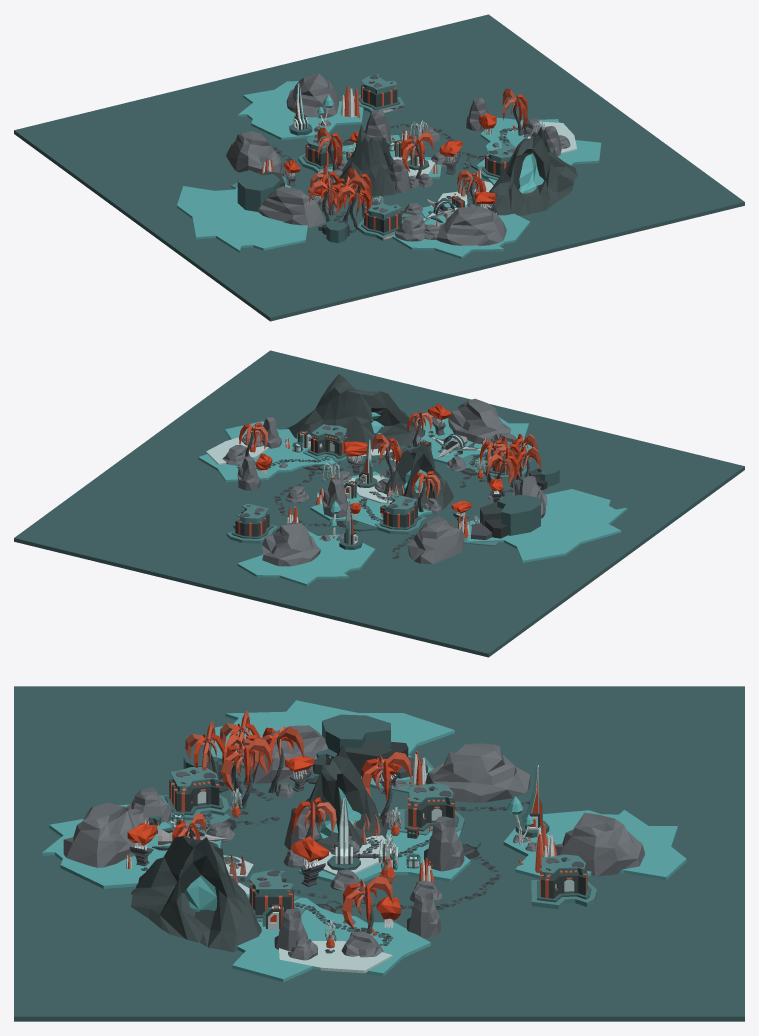
Rendered from Tropical_Paradise.fbx.
The picture shows the model from 3 angles, top to bottom: view 1: azimuth 30°, elevation 25°; view 2: azimuth 150°, elevation 25°; view 3: azimuth 270°, elevation 25°; orthographic projection. The views are drawn at different scales.
Parts seen in each view (by area): view 1: Ground_1, Cylinder_3_4, Sphere, Cylinder_5_2, Cylinder_6_3, Sphere_1, Cylinder_1_3, Cylinder_16_2, Cylinder_2_4, Cylinder_19_2, Cylinder_17_2, Cylinder_7 (+15 smaller); view 2: Ground_1, Cylinder_3_4, Sphere, Cylinder_5_2, Cylinder_7, Sphere_1, Cylinder_2_4, Cylinder_17_2, Cylinder_19_2, Cylinder_6_3, Cube_2, Cube_6 (+15 smaller); view 3: Ground_1, Sphere, Cylinder_2_4, Cylinder_19_2, Cylinder_5_2, Cylinder_3_4, Sphere_1, Cylinder_17_2, Cylinder_6_3, Cylinder_7, Cylinder_1_3, Cube_6 (+29 smaller).
Part boxes in pixels (<box>): Ground_1: <box>14,14,744,321</box>; Cylinder_3_4: <box>177,185,307,252</box>; Sphere: <box>488,126,577,215</box>; Cylinder_5_2: <box>238,81,363,139</box>; Cylinder_6_3: <box>437,206,506,245</box>; Sphere_1: <box>333,124,397,196</box>; Cylinder_1_3: <box>392,201,530,258</box>; Cylinder_16_2: <box>257,186,325,227</box>; Cylinder_2_4: <box>476,117,601,185</box>; Cylinder_19_2: <box>226,131,282,174</box>; Cylinder_17_2: <box>286,73,339,118</box>; Cylinder_7: <box>237,170,284,211</box>; Ground_1: <box>14,350,744,657</box>; Cylinder_3_4: <box>467,489,627,562</box>; Sphere: <box>286,374,425,449</box>; Cylinder_5_2: <box>237,531,375,586</box>; Cylinder_7: <box>471,495,540,539</box>; Sphere_1: <box>384,441,453,509</box>; Cylinder_2_4: <box>198,421,336,482</box>; Cylinder_17_2: <box>262,522,320,566</box>; Cylinder_19_2: <box>407,516,464,563</box>; Cylinder_6_3: <box>448,398,510,443</box>; Cube_2: <box>375,494,426,534</box>; Cube_6: <box>226,503,278,543</box>; Ground_1: <box>14,686,744,1021</box>; Sphere: <box>130,836,261,952</box>; Cylinder_2_4: <box>232,894,430,982</box>; Cylinder_19_2: <box>425,743,530,802</box>; Cylinder_5_2: <box>503,810,686,880</box>; Cylinder_3_4: <box>211,700,454,788</box>; Sphere_1: <box>305,745,387,851</box>; Cylinder_17_2: <box>555,812,644,876</box>; Cylinder_6_3: <box>63,802,139,867</box>; Cylinder_7: <box>322,714,427,778</box>; Cylinder_1_3: <box>42,804,221,888</box>; Cube_6: <box>531,854,596,909</box>.
Bounding box in the file's own units: 4033 × 546 × 3771.
Materials: 1 (1 with a texture image).
